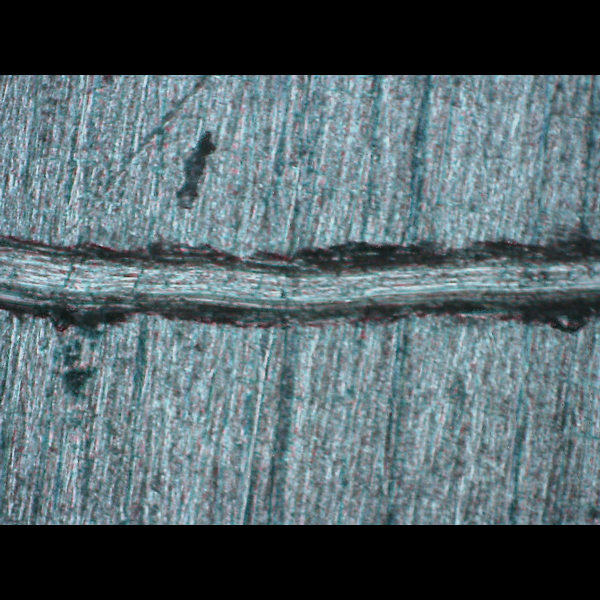d: (0, 223, 595, 335)
